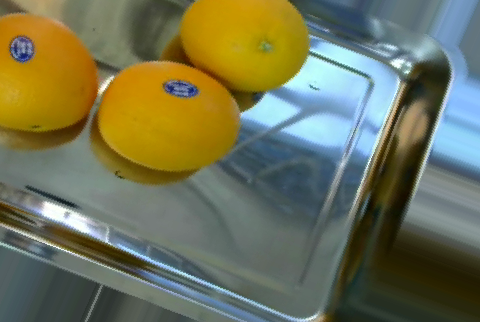Orange: (96, 59, 240, 172), (179, 1, 311, 93), (1, 10, 97, 132)
